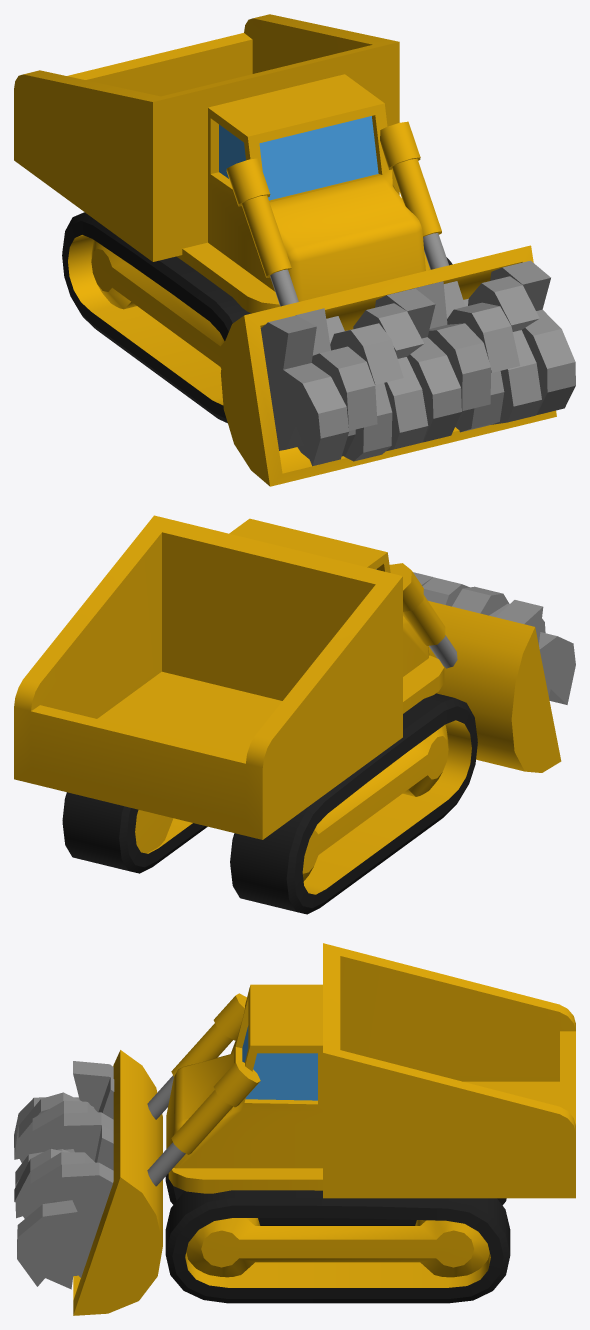
The model's file is Bulldozer.fbx.
3 renders of one model, top to bottom at view 1: azimuth 30°, elevation 25°; view 2: azimuth 150°, elevation 25°; view 3: azimuth 270°, elevation 25°, orthographic. The views are drawn at different scales.
Parts seen in each view (by area): view 1: Bulldozer, Сrusher; view 2: Bulldozer, Сrusher; view 3: Bulldozer, Сrusher.
Part boxes in pixels (<box>): Bulldozer: <box>14,14,556,486</box>; Сrusher: <box>260,260,575,466</box>; Bulldozer: <box>14,515,561,914</box>; Сrusher: <box>413,572,575,704</box>; Bulldozer: <box>73,943,575,1315</box>; Сrusher: <box>14,1061,114,1289</box>.
Size of the model in its own units: 1.69 by 1.59 by 3.16.
